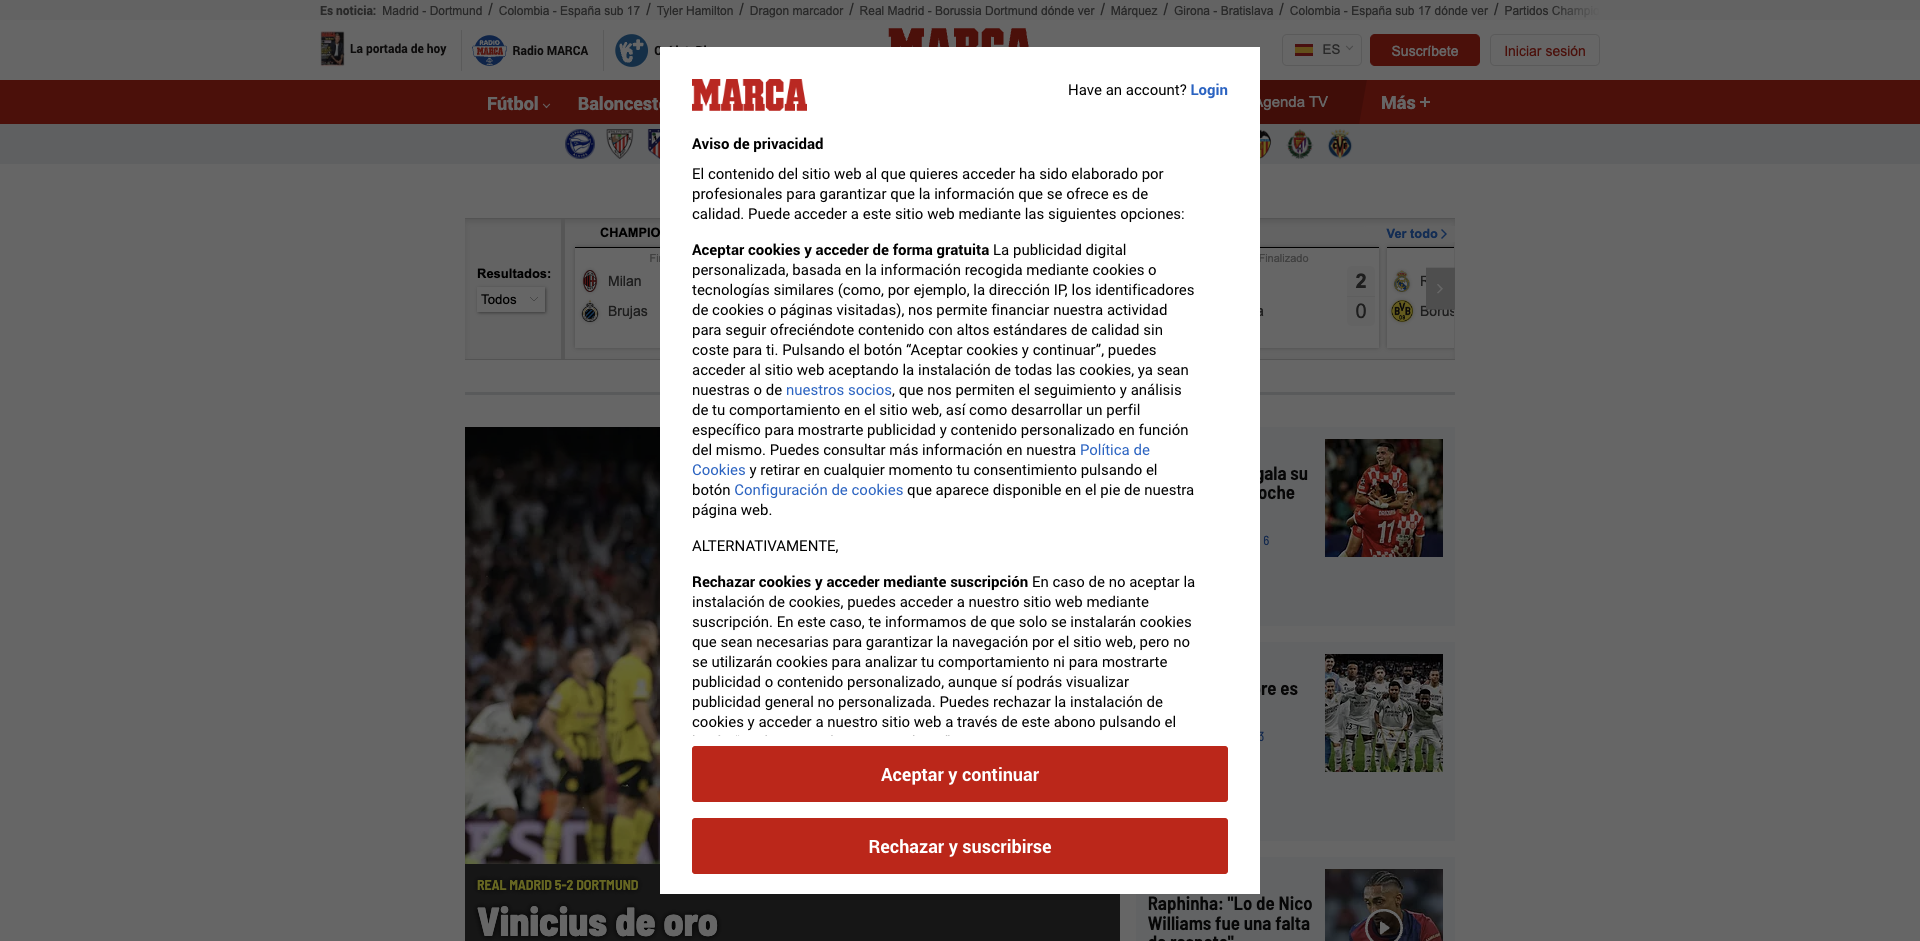button: (660, 736, 1260, 894), (692, 746, 1228, 803), (692, 818, 1228, 874), (1303, 452, 1494, 491), (1282, 34, 1362, 66)
icon: (465, 426, 1119, 941), (564, 145, 595, 162), (605, 145, 636, 162), (684, 145, 715, 162), (725, 145, 756, 162), (804, 145, 835, 162), (845, 145, 876, 162), (924, 145, 955, 162), (965, 145, 996, 162), (1044, 145, 1075, 162), (1085, 145, 1116, 162), (1164, 145, 1195, 162), (1205, 145, 1236, 162), (1284, 145, 1315, 162), (1325, 145, 1356, 162), (645, 145, 675, 162), (765, 145, 795, 162), (885, 145, 915, 162), (1005, 145, 1035, 162), (1125, 145, 1155, 162), (1245, 145, 1275, 162)
label: (1318, 386, 1386, 401), (1418, 386, 1485, 401), (1318, 414, 1385, 428), (1418, 414, 1471, 428)
link: (465, 426, 1119, 941), (1135, 426, 1455, 626), (1135, 642, 1455, 841), (692, 439, 1150, 507), (1135, 858, 1455, 941), (478, 896, 718, 941), (1283, 109, 1513, 153), (1283, 154, 1513, 198), (1283, 198, 1513, 243), (1283, 244, 1513, 288), (1147, 461, 1308, 523), (1147, 891, 1313, 941), (888, 20, 1032, 76), (735, 479, 904, 527), (1147, 676, 1298, 719), (692, 866, 819, 915), (787, 80, 927, 124), (569, 80, 692, 124), (786, 379, 893, 426), (320, 29, 447, 67), (473, 29, 588, 71), (615, 29, 720, 71), (934, 80, 1025, 124), (1022, 847, 1103, 894), (479, 80, 562, 124), (1370, 34, 1480, 66), (1490, 34, 1600, 66), (699, 80, 779, 124), (860, 4, 1095, 17), (1289, 4, 1488, 17), (1652, 4, 1809, 17), (498, 4, 640, 17), (1190, 80, 1228, 127), (1505, 4, 1635, 17), (382, 4, 482, 17), (1174, 4, 1273, 17), (1063, 93, 1140, 110), (1254, 93, 1329, 110), (749, 4, 844, 17), (656, 4, 733, 17), (564, 129, 595, 159), (605, 129, 636, 159), (684, 129, 715, 159), (725, 129, 756, 159), (804, 129, 835, 159), (845, 129, 876, 159), (924, 129, 955, 159), (965, 129, 996, 159), (1044, 129, 1075, 159), (1085, 129, 1116, 159), (1164, 129, 1195, 159), (1205, 129, 1236, 159), (1284, 129, 1315, 159), (1325, 129, 1356, 159), (1171, 93, 1223, 110), (645, 129, 675, 159), (765, 129, 795, 159), (885, 129, 915, 159), (1005, 129, 1035, 159), (1125, 129, 1155, 159), (1245, 129, 1275, 159), (1826, 4, 1878, 17), (1228, 727, 1266, 744), (1111, 4, 1157, 17), (1245, 532, 1271, 548), (1894, 4, 1920, 17)
radio: (1385, 386, 1386, 386), (1485, 386, 1485, 386), (1385, 413, 1385, 414), (1471, 413, 1471, 414)
slider: (0, 0, 1920, 20)
